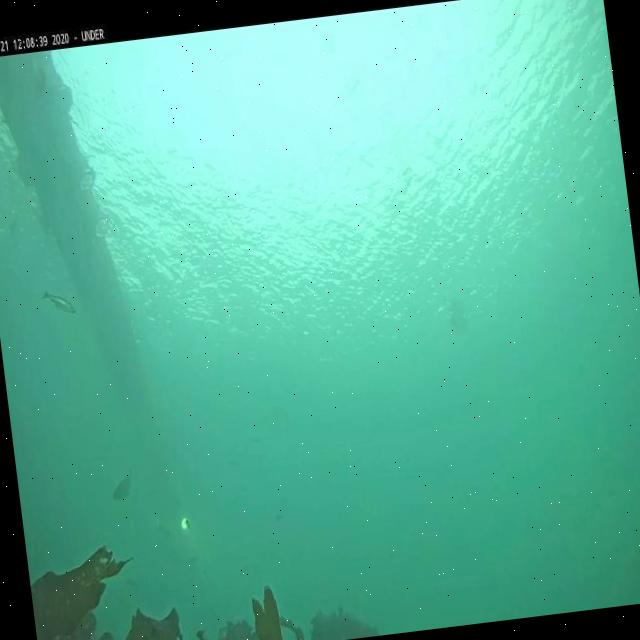fish: (42, 286, 74, 318), (108, 468, 136, 504)
